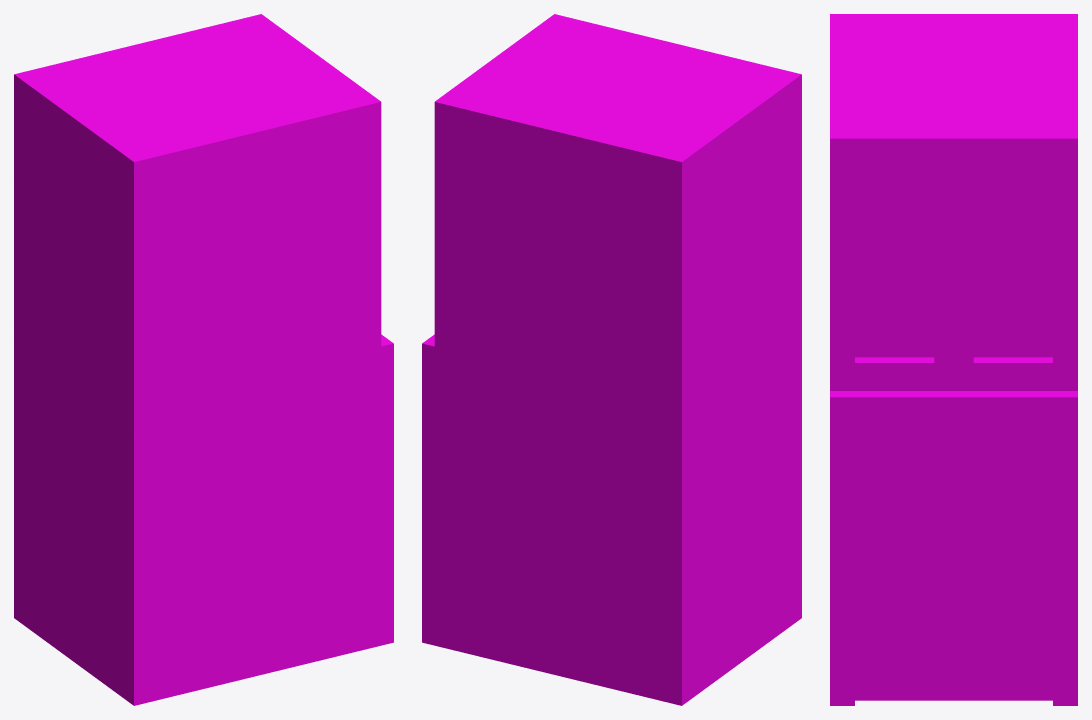
Rendered from building 2 var 4.fbx.
3 renders of one model, left to right at view 1: azimuth 30°, elevation 25°; view 2: azimuth 150°, elevation 25°; view 3: azimuth 270°, elevation 25°, orthographic. The views are drawn at different scales.
Parts seen in each view (by area): view 1: building_2_var_4; view 2: building_2_var_4; view 3: building_2_var_4.
Boxes of the visible parts, <box> form: building_2_var_4: <box>14,14,393,705</box>; building_2_var_4: <box>422,14,801,705</box>; building_2_var_4: <box>830,14,1077,705</box>.
Bounding box in the file's own units: 3.02 × 6.04 × 2.42.
